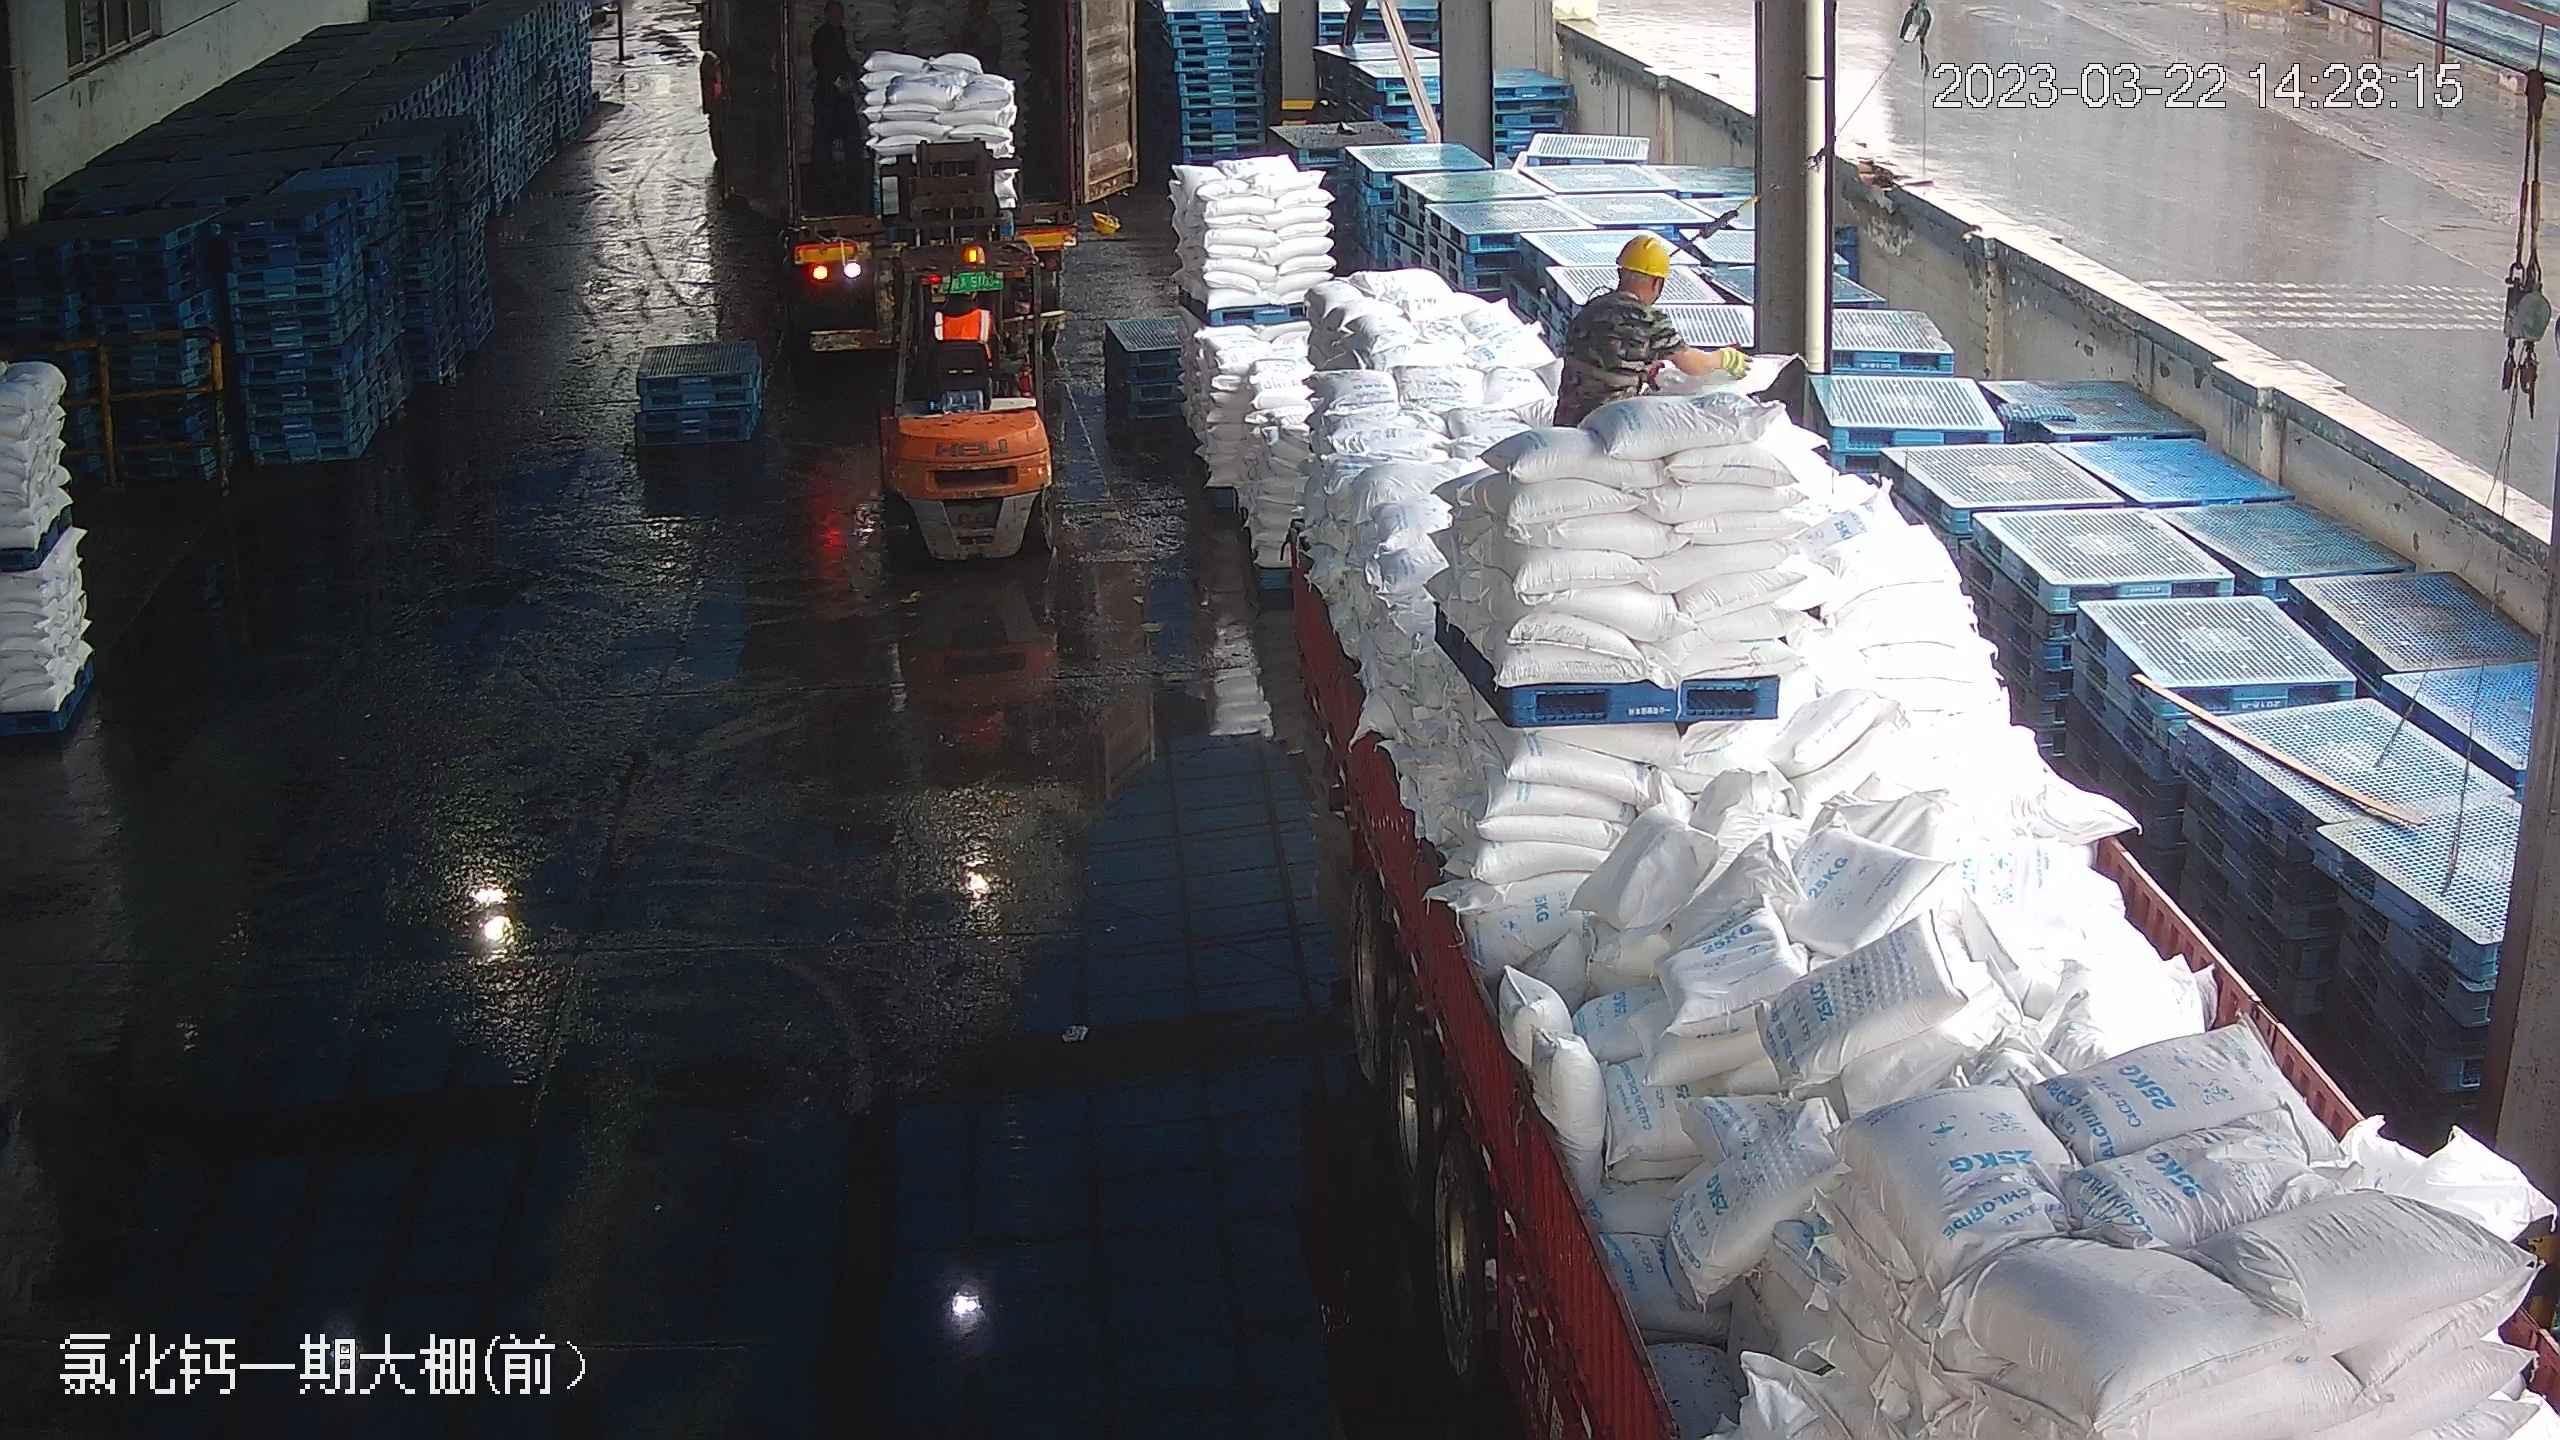belt: (1562, 290, 1638, 394)
head: (1577, 232, 1680, 335)
helmet: (1612, 231, 1676, 278)
people: (1544, 231, 1721, 435)
truck: (1243, 109, 2534, 1438), (783, 1, 1098, 334)
